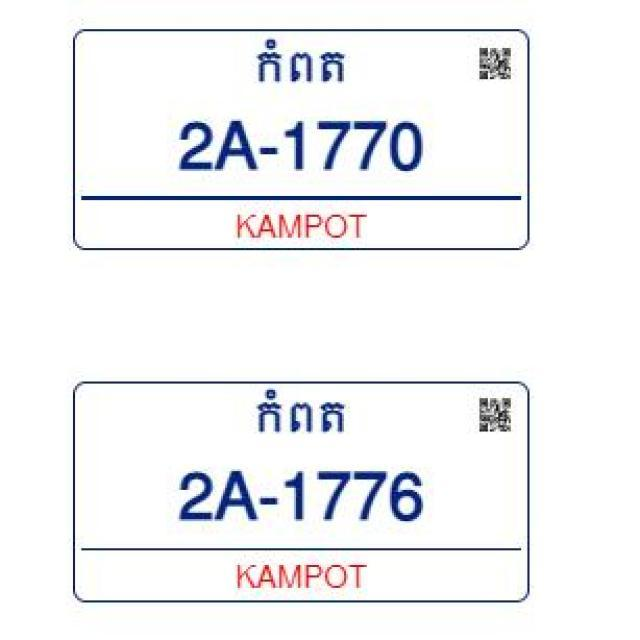Kampot: (254, 31, 350, 92), (252, 386, 354, 443)
